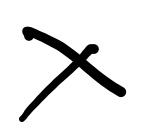mult: (20, 28, 126, 122)
